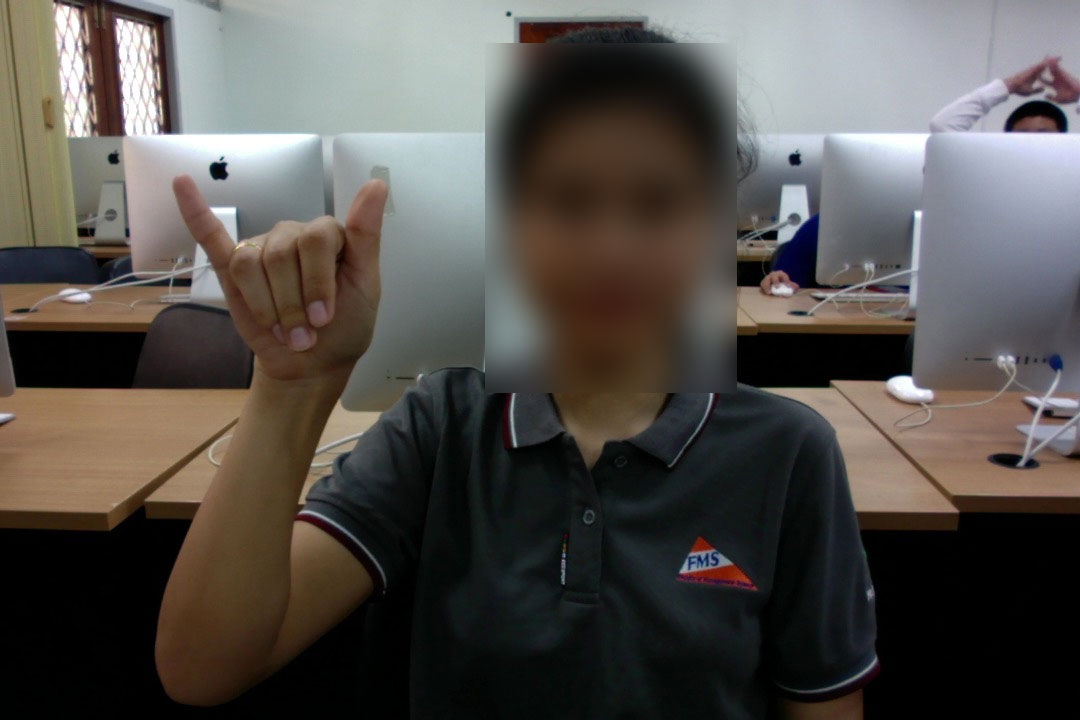yor: (150, 164, 399, 379)
